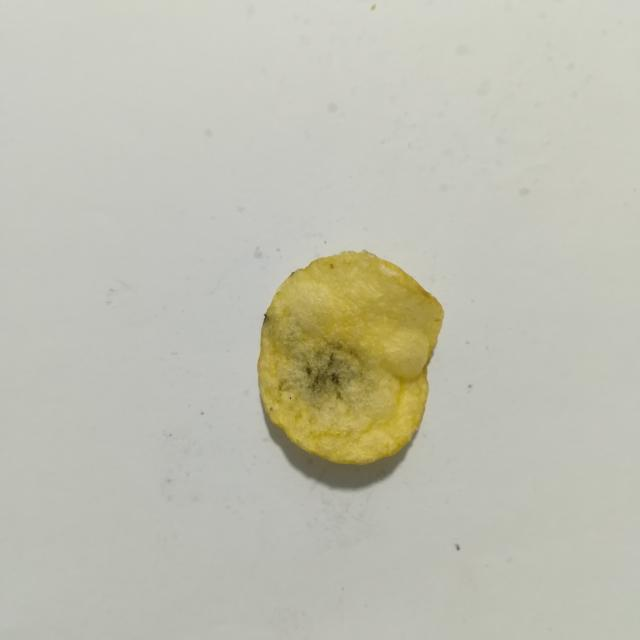chip: (258, 251, 443, 464)
semi-damaged: (264, 316, 379, 408)
